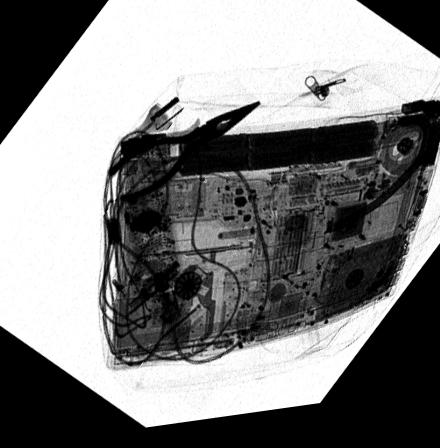Pliers: (103, 105, 264, 207)
